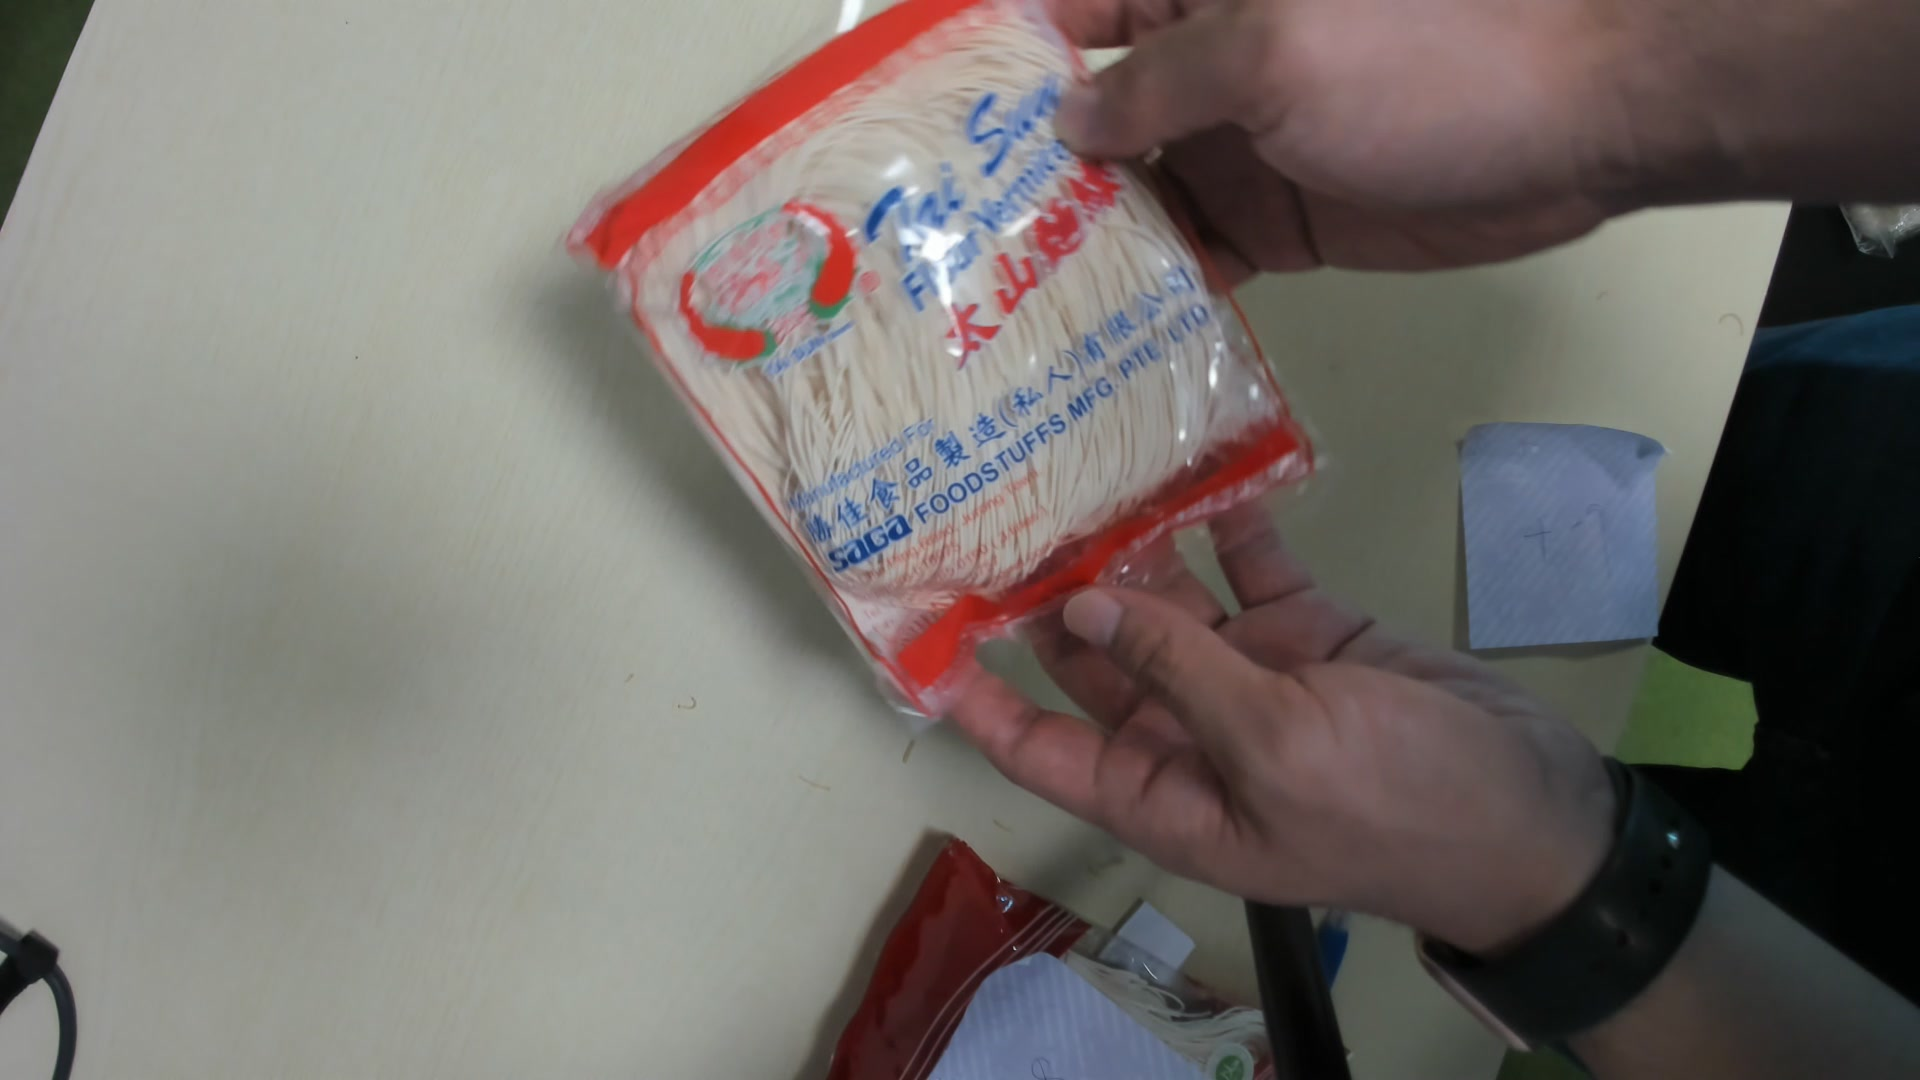BeeHoonVermicelli_100-199g_Halal_NonHealthy: (584, 1, 1319, 708)
